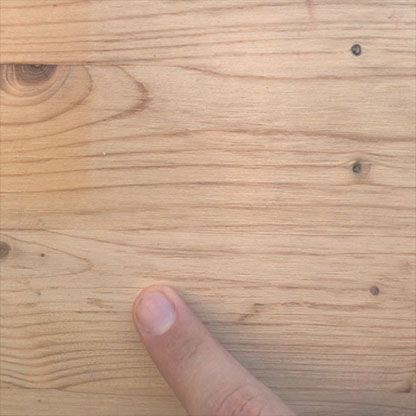fingertip: (121, 276, 194, 348)
